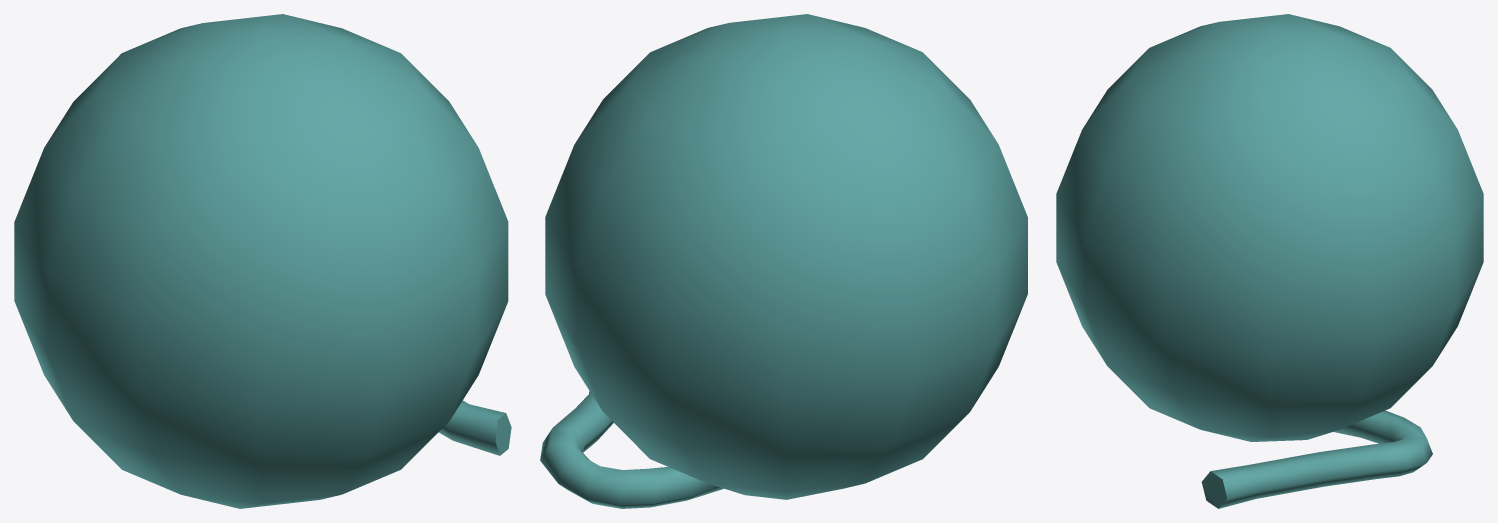
The picture shows the model from 3 angles, left to right: view 1: azimuth 30°, elevation 25°; view 2: azimuth 150°, elevation 25°; view 3: azimuth 270°, elevation 25°; orthographic projection. The views are drawn at different scales.
Parts seen in each view (by area): view 1: SM_Ball_Of_Wool_Spectral_LOD0; view 2: SM_Ball_Of_Wool_Spectral_LOD0; view 3: SM_Ball_Of_Wool_Spectral_LOD0.
Boxes of the visible parts, <box> form: SM_Ball_Of_Wool_Spectral_LOD0: <box>14,14,511,508</box>; SM_Ball_Of_Wool_Spectral_LOD0: <box>540,14,1027,508</box>; SM_Ball_Of_Wool_Spectral_LOD0: <box>1056,14,1483,508</box>.
Size of the model in its own units: 0.1995 by 0.1973 by 0.1943.
